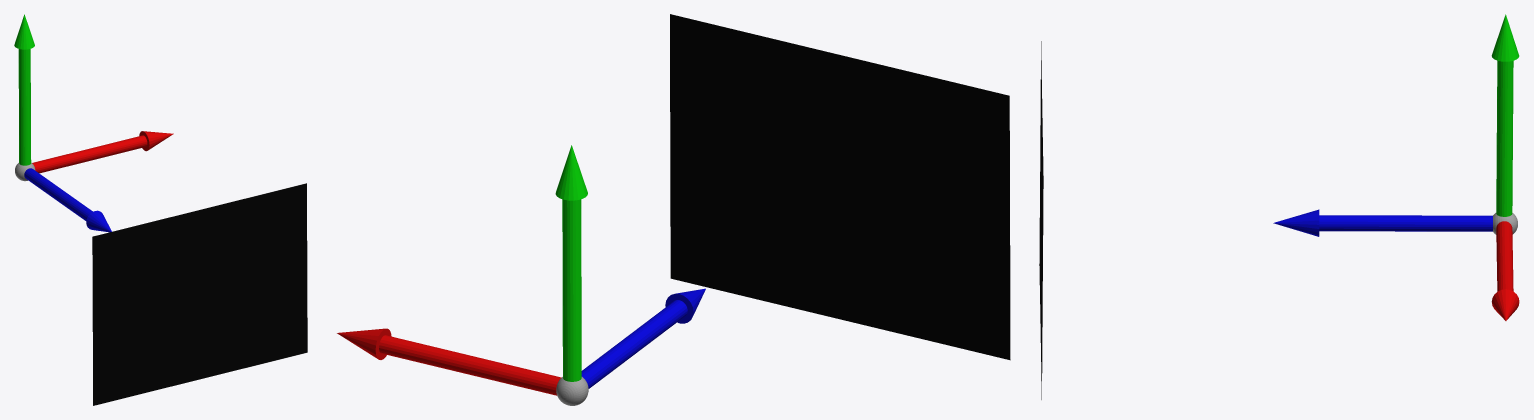
3 renders of one model, left to right at view 1: azimuth 30°, elevation 25°; view 2: azimuth 150°, elevation 25°; view 3: azimuth 270°, elevation 25°, orthographic. The views are drawn at different scales.
Bounding box in the file's own units: 0.2133 × 0.1909 × 0.2593.
